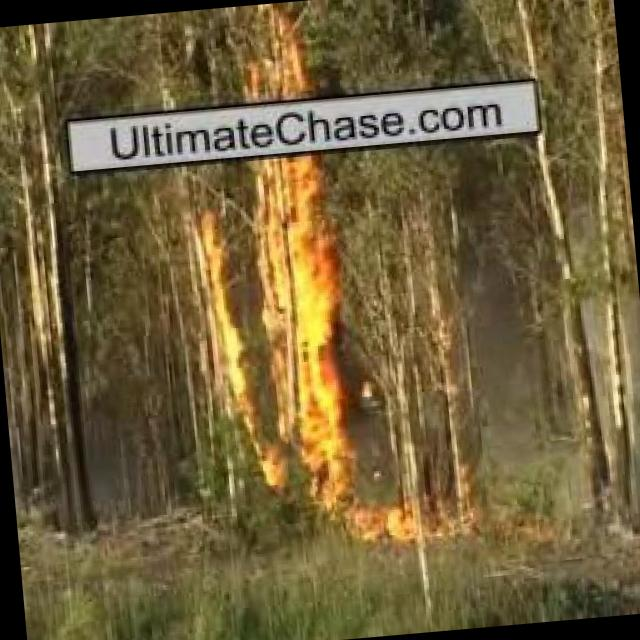Fire: (182, 201, 354, 504), (231, 4, 307, 102), (323, 496, 434, 555), (260, 154, 314, 206)
